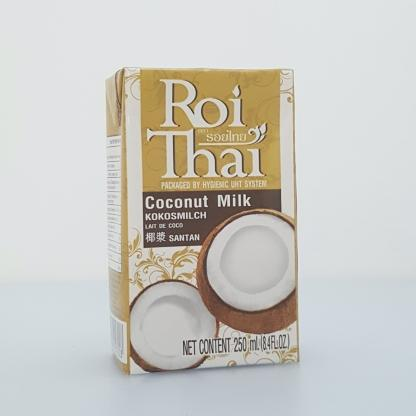-------------: (106, 65, 300, 374)
